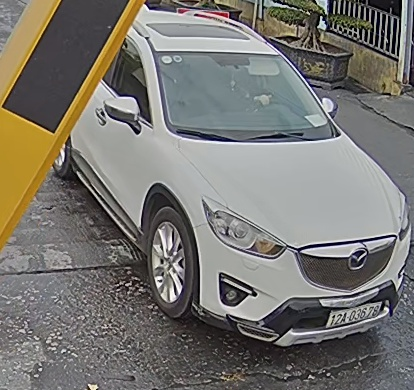vehicle plate: (322, 299, 388, 332)
